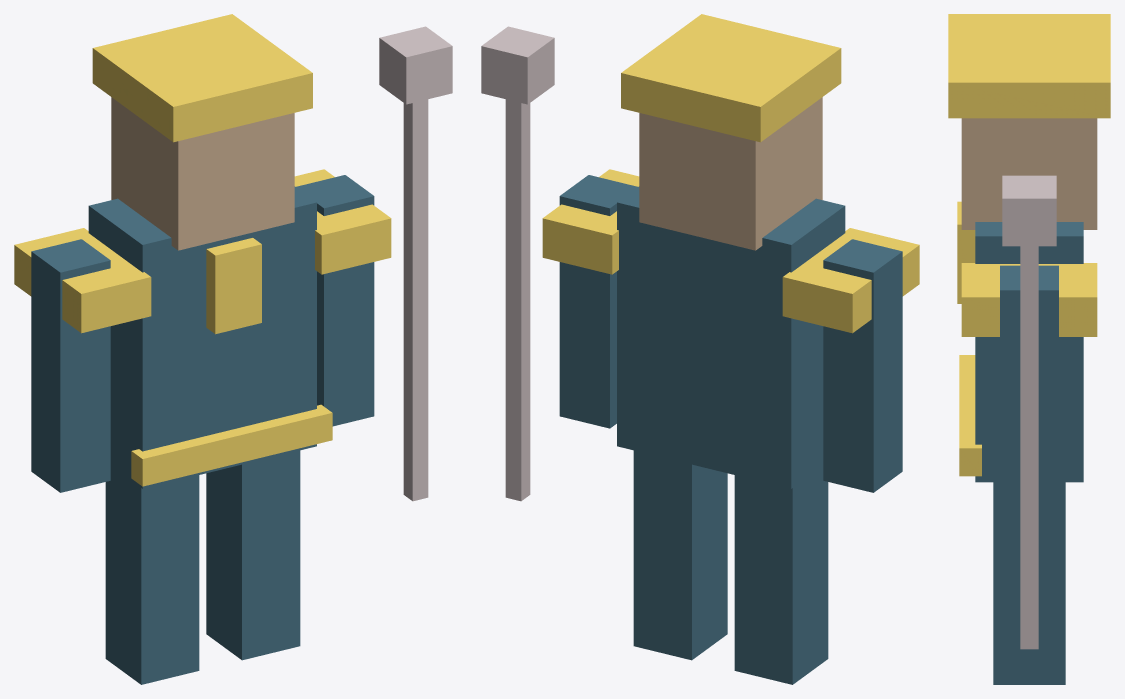
The model's file is 07_thorne_nullborne_broker_from_hammer.glb.
The picture shows the model from 3 angles, left to right: view 1: azimuth 30°, elevation 25°; view 2: azimuth 150°, elevation 25°; view 3: azimuth 270°, elevation 25°; orthographic projection.
Parts seen in each view (by area): view 1: Thorne Nullborne, Broker from Hammer; view 2: Thorne Nullborne, Broker from Hammer; view 3: Thorne Nullborne, Broker from Hammer.
Boxes of the visible parts, bbox=[...] form: Thorne Nullborne, Broker from Hammer: bbox=[14, 14, 452, 684]; Thorne Nullborne, Broker from Hammer: bbox=[481, 14, 919, 684]; Thorne Nullborne, Broker from Hammer: bbox=[948, 14, 1110, 684].
Bounding box in the file's own units: 0.9805 × 1.41 × 0.3478.
